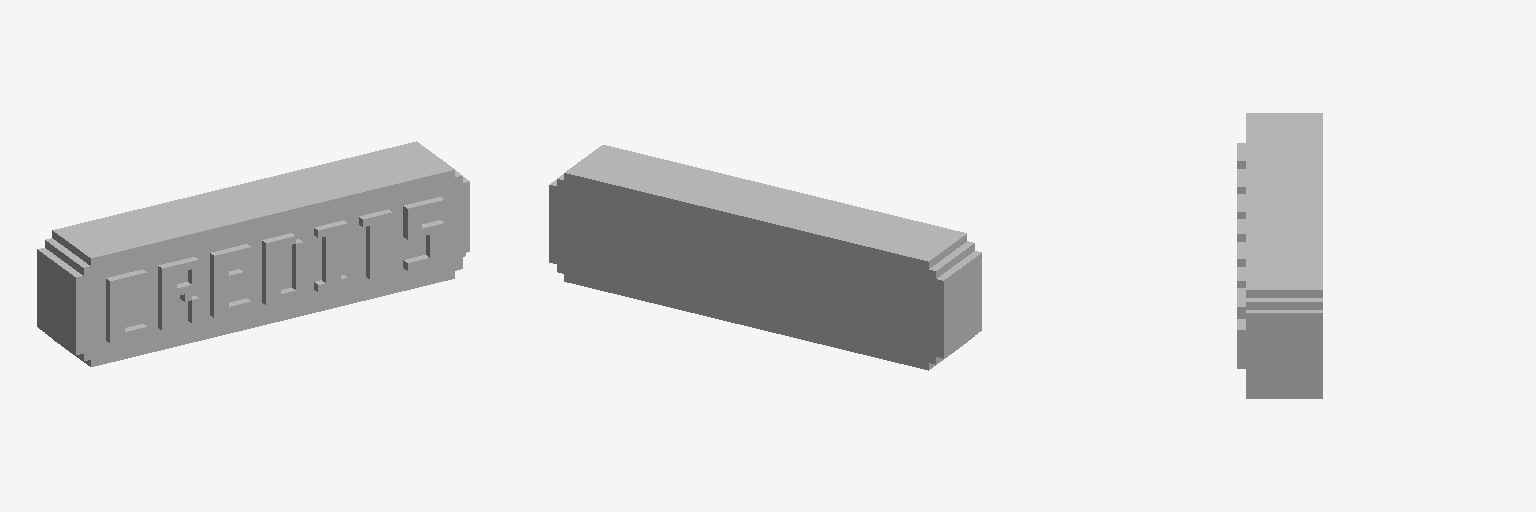
Rendered from Credits.obj.
The picture shows the model from 3 angles: view 1: azimuth 30°, elevation 25°; view 2: azimuth 150°, elevation 25°; view 3: azimuth 270°, elevation 25°; orthographic projection.
Visible parts, largest first — view 1: object 1; view 2: object 1; view 3: object 1.
Part boxes in pixels (left/top/right/bottom): object 1: left=37, top=141, right=469, bottom=366; object 1: left=549, top=145, right=981, bottom=370; object 1: left=1237, top=113, right=1322, bottom=398.
Size of the model in its own units: 5.3 by 1.4 by 1.